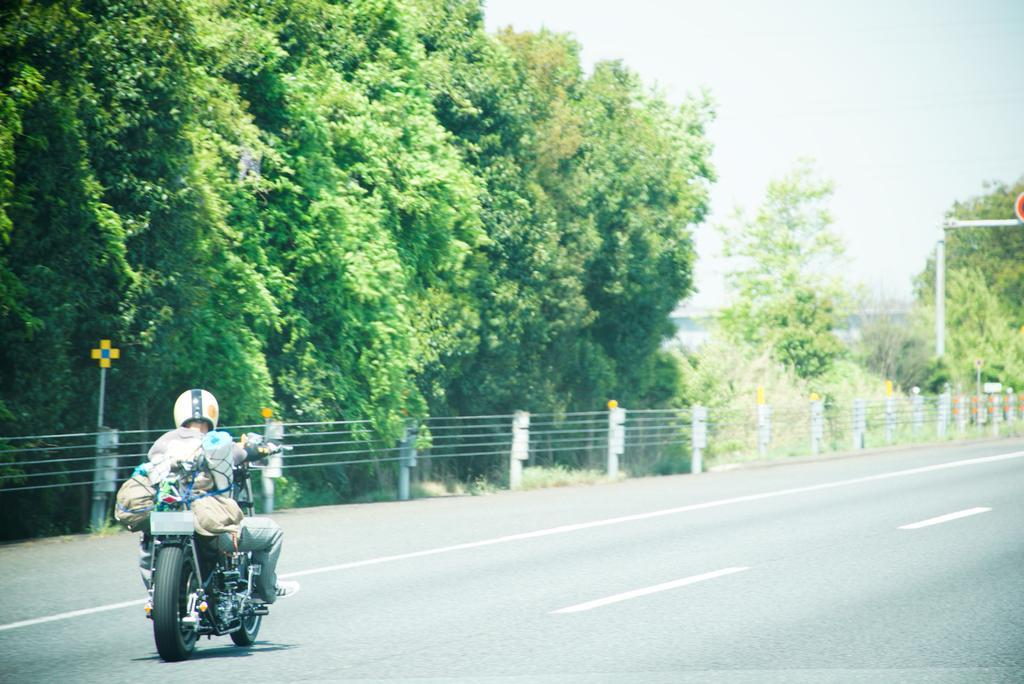helmet: (173, 388, 221, 432)
